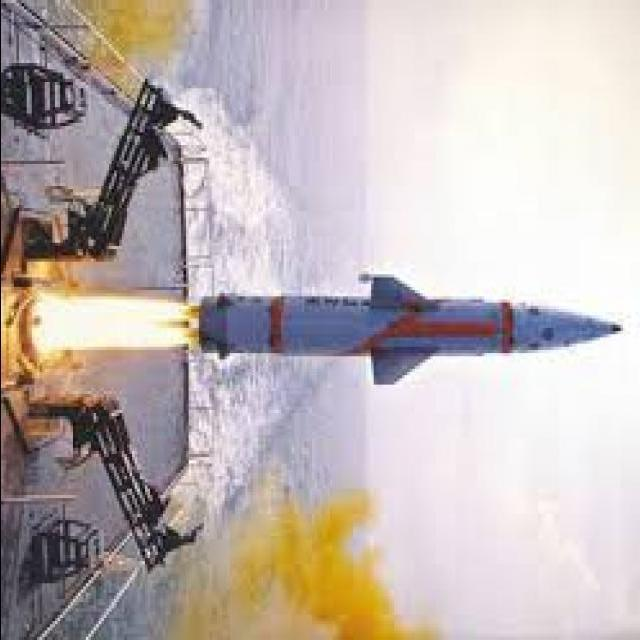Missile: (188, 264, 640, 396)
